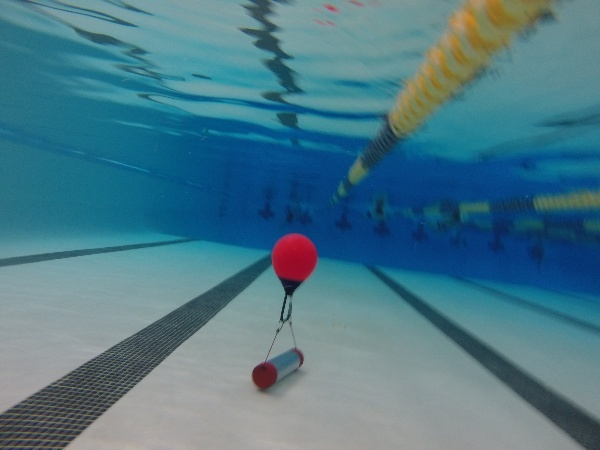buoy_red: (268, 231, 321, 296)
